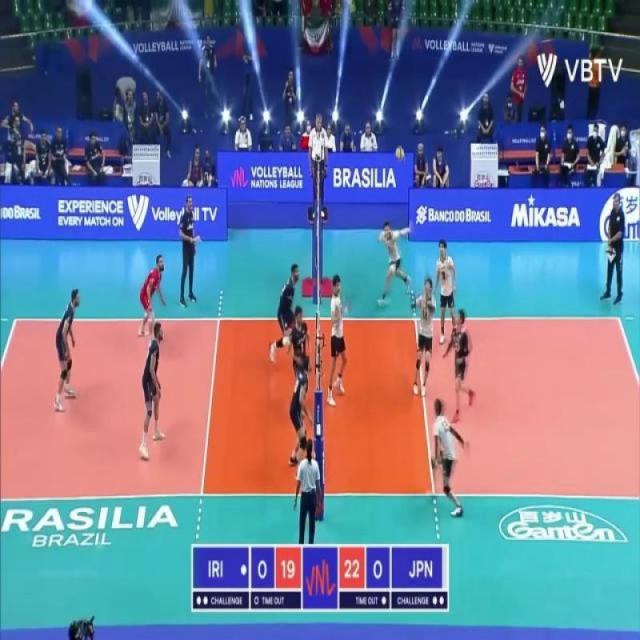volleyball: (395, 145, 404, 163)
